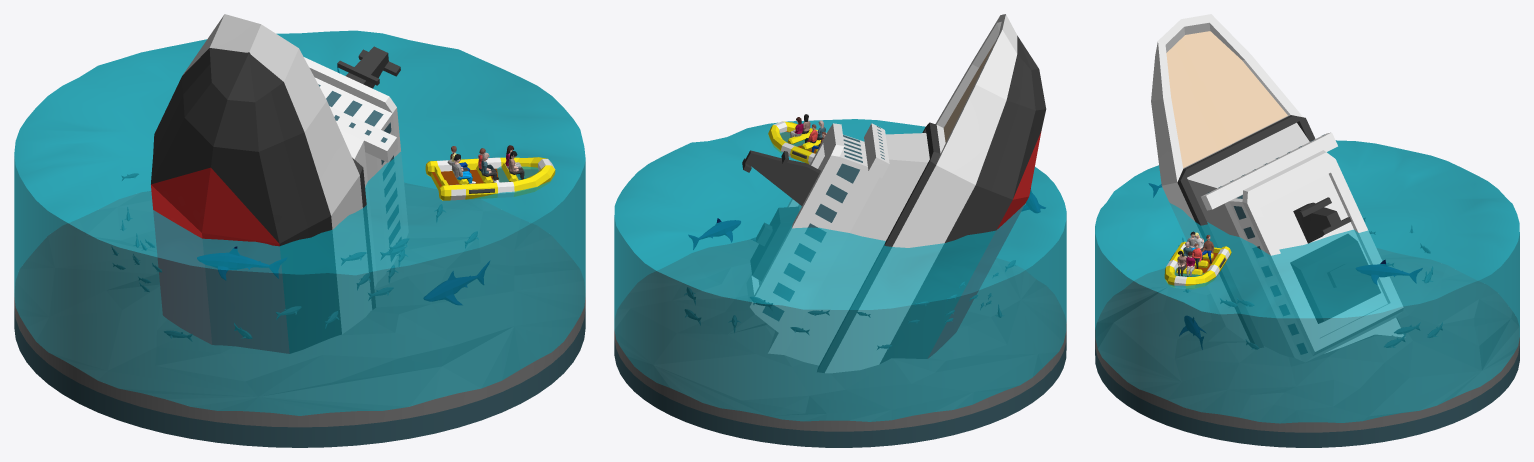
The model's file is land_50.fbx.
The picture shows the model from 3 angles, left to right: view 1: azimuth 30°, elevation 25°; view 2: azimuth 150°, elevation 25°; view 3: azimuth 270°, elevation 25°; orthographic projection. The views are drawn at different scales.
Visible parts, largest first — view 1: land_11.089, land_11.088, land_50.052, land_11.087, land_50.059, land_50.069, land_50.068; view 2: land_11.089, land_50.052, land_11.088, land_11.087, land_50.059, land_50.067; view 3: land_11.089, land_50.052, land_11.088, land_11.087, land_50.059, land_50.067.
Boxes of the visible parts, x1,y1,x2,y2 form: land_11.089: (14, 30, 585, 415); land_11.088: (14, 182, 585, 427); land_50.052: (151, 14, 408, 353); land_11.087: (14, 309, 585, 447); land_50.059: (425, 157, 555, 200); land_50.069: (197, 246, 286, 280); land_50.068: (423, 261, 489, 304); land_11.089: (614, 119, 1066, 421); land_50.052: (742, 14, 1046, 372); land_11.088: (614, 239, 1066, 431); land_11.087: (614, 335, 1066, 447); land_50.059: (768, 121, 826, 164); land_50.067: (688, 218, 740, 249); land_11.089: (1095, 140, 1519, 423); land_50.052: (1151, 14, 1403, 361); land_11.088: (1095, 248, 1519, 432); land_11.087: (1095, 341, 1519, 447); land_50.059: (1164, 241, 1231, 288); land_50.067: (1356, 259, 1422, 284).
Bounding box in the file's own units: 19.99 × 15.27 × 19.99.
